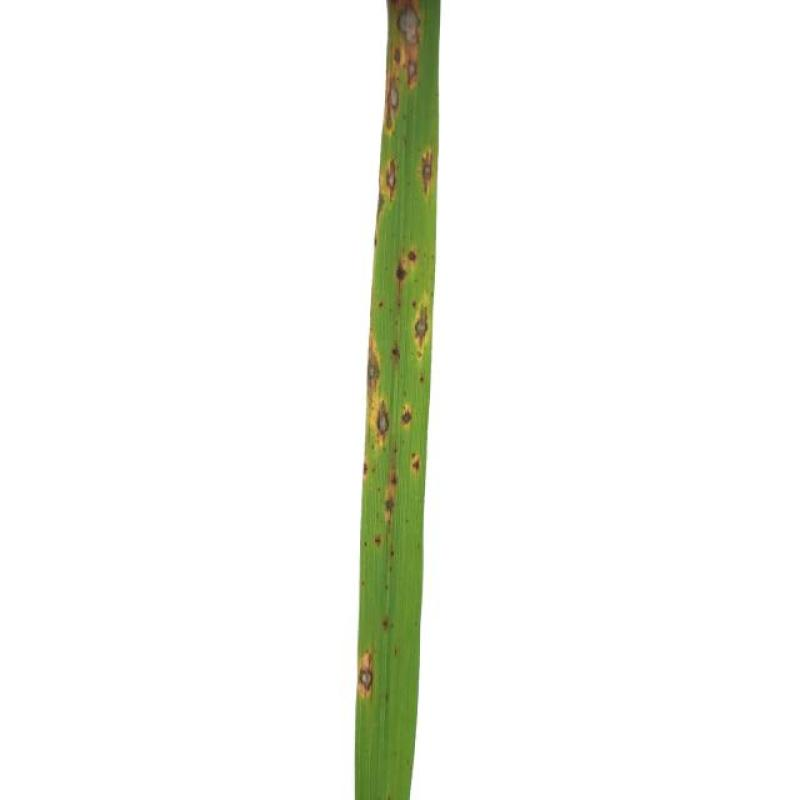Leaf_Blast: (379, 152, 405, 220), (356, 646, 382, 712), (379, 470, 406, 526), (398, 2, 424, 52), (390, 252, 418, 290), (412, 303, 430, 358), (385, 70, 399, 136), (420, 145, 432, 203), (379, 405, 391, 446), (371, 346, 381, 395), (404, 400, 416, 432), (408, 61, 418, 89)
